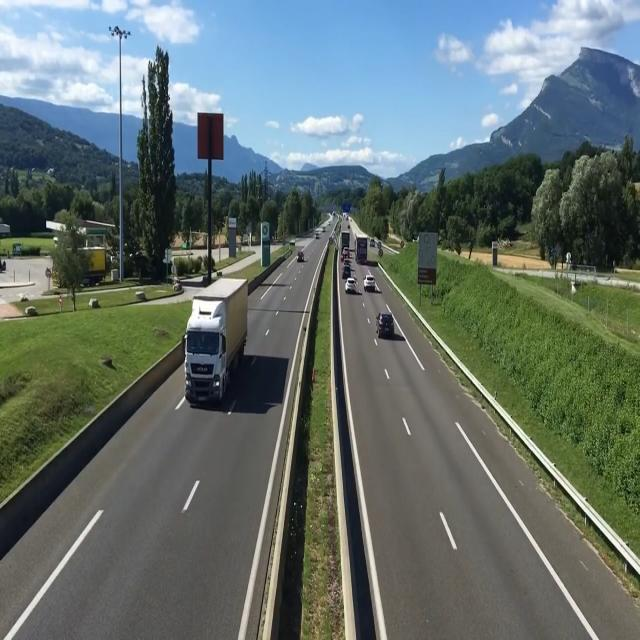car: (374, 306, 400, 341), (344, 260, 358, 298), (364, 266, 379, 296)
truck: (185, 277, 241, 409), (357, 231, 371, 265), (340, 230, 352, 252)
